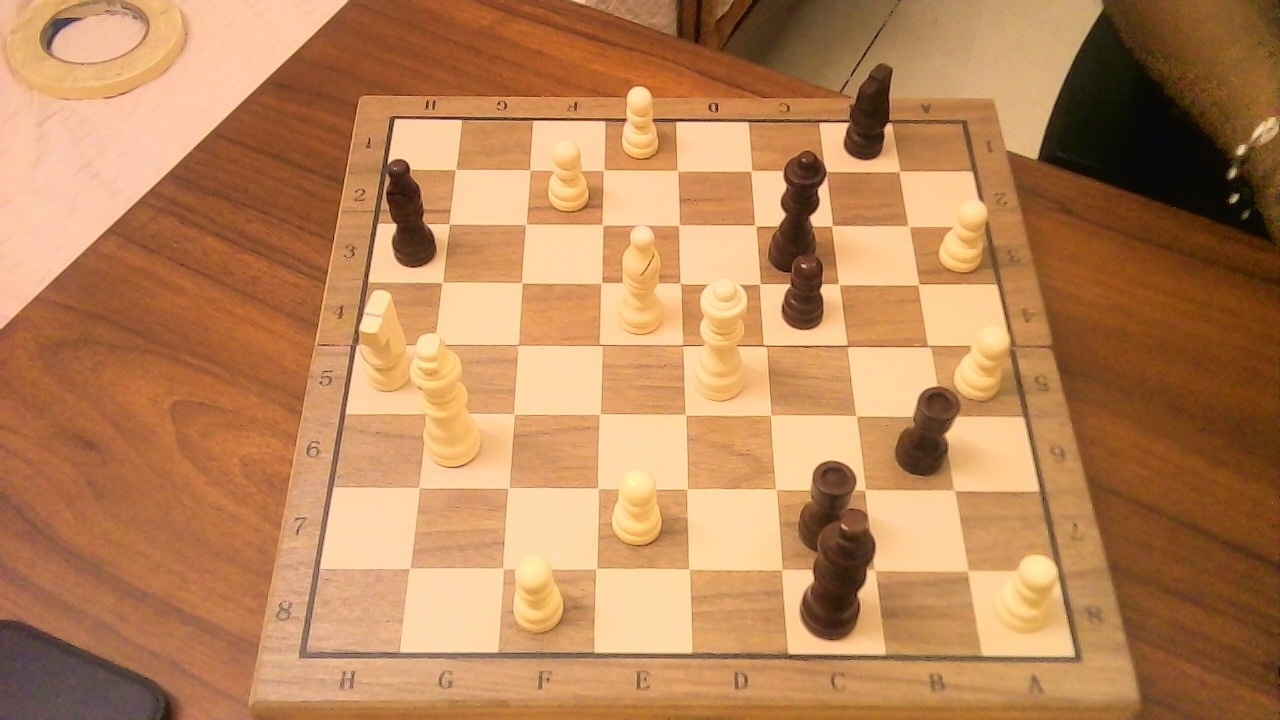B: (608, 214, 673, 339)
K: (407, 321, 491, 472)
N: (352, 316, 416, 397)
P: (989, 544, 1068, 637), (504, 543, 572, 637), (949, 316, 1018, 403), (604, 459, 668, 550), (932, 190, 996, 275), (538, 131, 595, 215), (613, 77, 665, 163)
Q: (689, 267, 759, 407)
b: (379, 147, 443, 271)
k: (793, 493, 890, 646)
n: (839, 50, 900, 164)
p: (775, 245, 836, 334)
q: (765, 138, 838, 276)
r: (888, 372, 970, 480), (791, 448, 868, 556)
